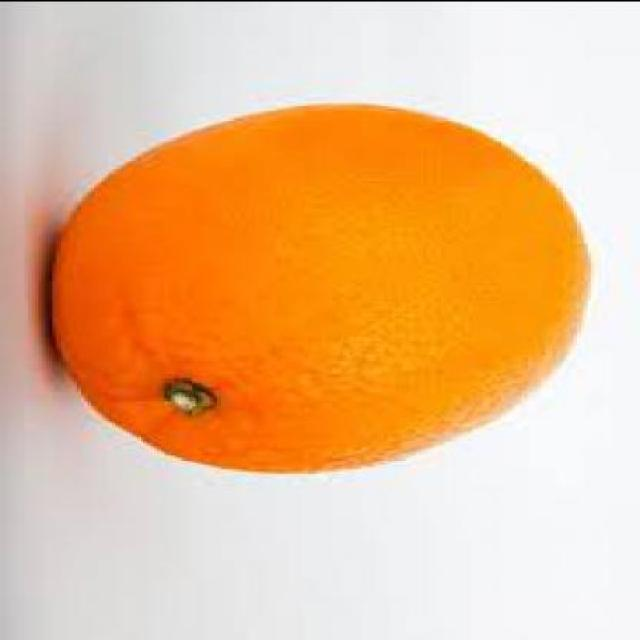BIODEGRADABLE: (49, 98, 602, 470)
